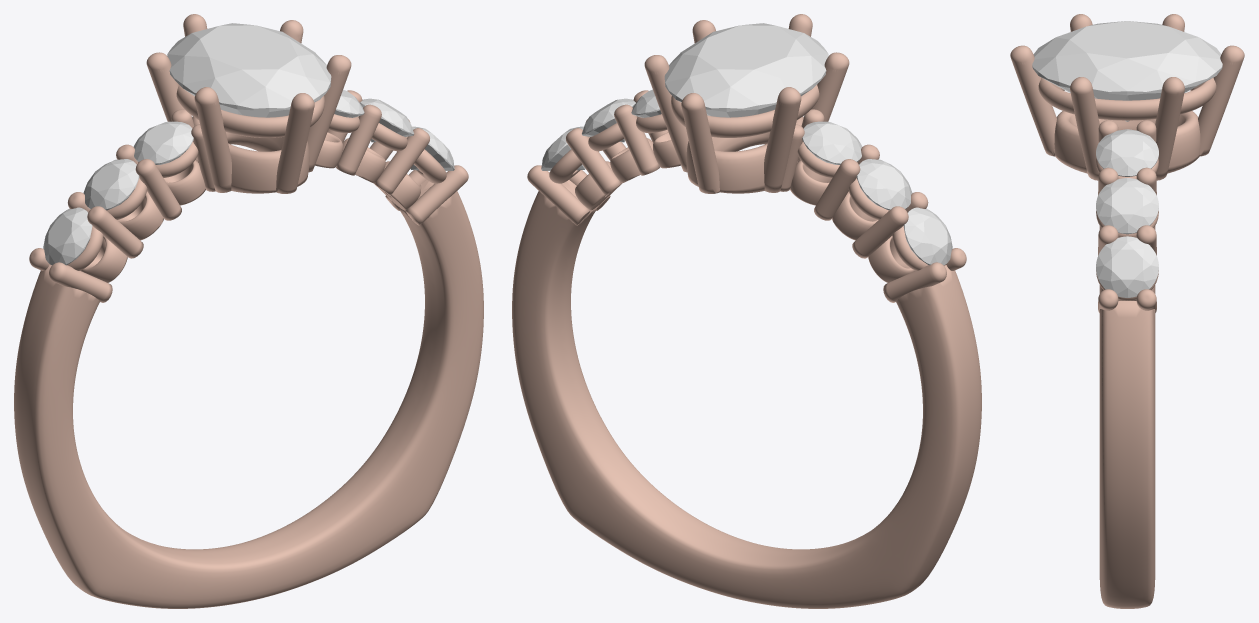
Rendered from diamond-oval-rosegold-6prong-europeanshank-7stone.glb.
3 renders of one model, left to right at view 1: azimuth 30°, elevation 25°; view 2: azimuth 150°, elevation 25°; view 3: azimuth 270°, elevation 25°, orthographic. The views are drawn at different scales.
Parts seen in each view (by area): view 1: metal, stone.001, side.012, side.013, side.014, side.016, side.015; view 2: metal, stone.001, side.012, side.013, side.014, side.016, side.015; view 3: metal, stone.001, side.015, side.016, side.017.
Part boxes in pixels (x1,y1,x2,y2): metal: [14, 14, 483, 608]; stone.001: [167, 23, 331, 117]; side.012: [43, 207, 92, 265]; side.013: [83, 159, 139, 210]; side.014: [133, 121, 193, 164]; side.016: [360, 98, 413, 142]; side.015: [410, 126, 454, 170]; metal: [512, 14, 981, 608]; stone.001: [664, 23, 828, 117]; side.012: [903, 207, 952, 265]; side.013: [856, 159, 912, 210]; side.014: [802, 121, 862, 164]; side.016: [582, 98, 635, 142]; side.015: [541, 126, 585, 170]; metal: [1010, 14, 1244, 608]; stone.001: [1032, 21, 1222, 121]; side.015: [1096, 236, 1158, 297]; side.016: [1096, 178, 1158, 234]; side.017: [1096, 129, 1158, 176].
Size of the model in its own units: 20.11 by 23.21 by 9.29.
